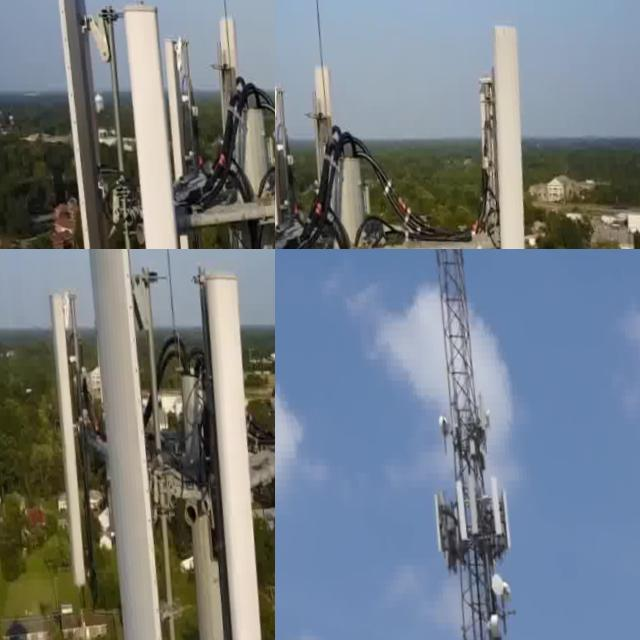GSM Antenna: (60, 249, 182, 640), (170, 265, 275, 640), (74, 12, 187, 249), (13, 0, 119, 249), (454, 4, 549, 249), (31, 286, 94, 590), (149, 35, 204, 249), (454, 72, 516, 249), (304, 54, 339, 201), (275, 67, 303, 249), (206, 10, 242, 101), (416, 490, 441, 569), (483, 482, 505, 560), (438, 478, 460, 551), (472, 480, 493, 556), (451, 475, 471, 544)
Microwave Antenna: (478, 571, 496, 607), (470, 612, 491, 640), (427, 414, 441, 446), (473, 408, 487, 440), (488, 582, 502, 602)
